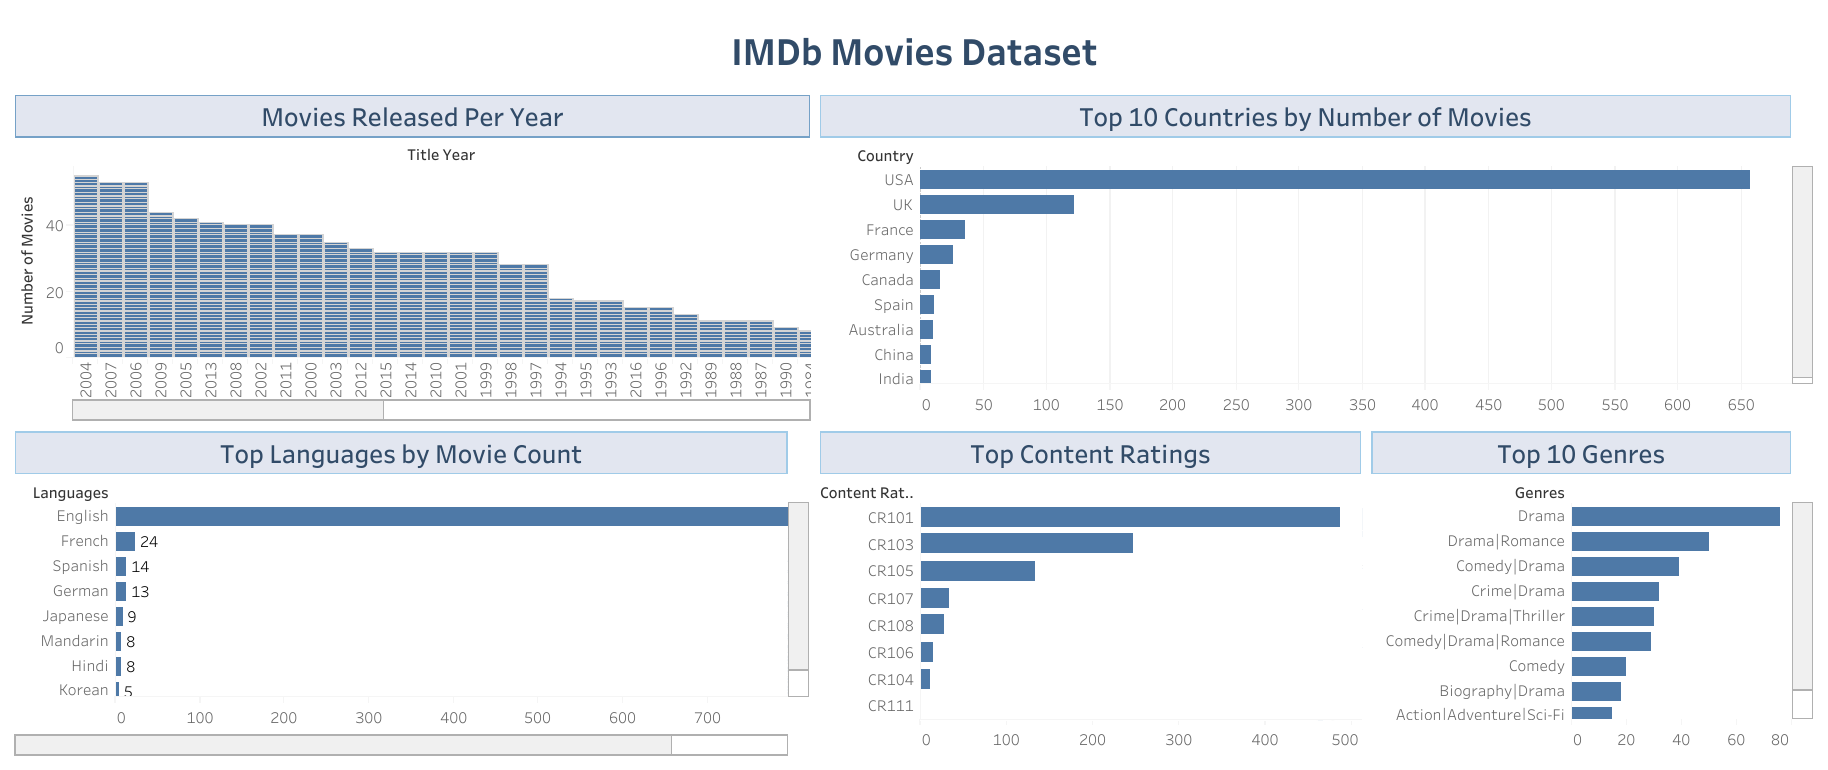

The page's visual inventory and layout, read from the dashboard file:
{"tool":"tableau","page":{"name":"Movie Dataset Analysis Dashboard","canvas":[1000,1000],"units":"permille","ordinal":0},"visuals":[{"type":"text","box":[4.9,12.1,990.1,104.4]},{"type":"worksheet","title":"Movies Released Per Year","mark":"Automatic","rows":["Movie_id"],"cols":["title_year"],"box":[4.9,116.5,440.6,435.5]},{"type":"worksheet","title":"Top 10 Countries by Number of Movies","mark":"Automatic","rows":["country"],"cols":["Movie_id"],"box":[445.6,116.5,549.5,435.5]},{"type":"worksheet","title":"Top Languages by Movie Count","mark":"Automatic","rows":["languages"],"cols":["Movie_id"],"box":[4.9,552,440.6,435.9]},{"type":"worksheet","title":"Top Content Ratings","mark":"Automatic","rows":["content_rating"],"cols":["Movie_id"],"box":[445.6,552,301.8,435.9]},{"type":"worksheet","title":"Top 10 Genres","mark":"Automatic","rows":["genres"],"cols":["Movie_id"],"box":[747.3,552,247.7,435.9]}]}

Visuals, with their boxes on the dashboard's canvas, which has no fixed pixel size, in thousandths of its width and height (x1, y1, x2, y2). These are canvas units, not pixel positions in the 1828x770 screenshot, which may show the page scaled, cropped or inside an application window:
text: crop(5, 12, 995, 116)
"Movies Released Per Year" worksheet: crop(5, 116, 446, 552)
"Top 10 Countries by Number of Movies" worksheet: crop(446, 116, 995, 552)
"Top Languages by Movie Count" worksheet: crop(5, 552, 446, 988)
"Top Content Ratings" worksheet: crop(446, 552, 747, 988)
"Top 10 Genres" worksheet: crop(747, 552, 995, 988)
